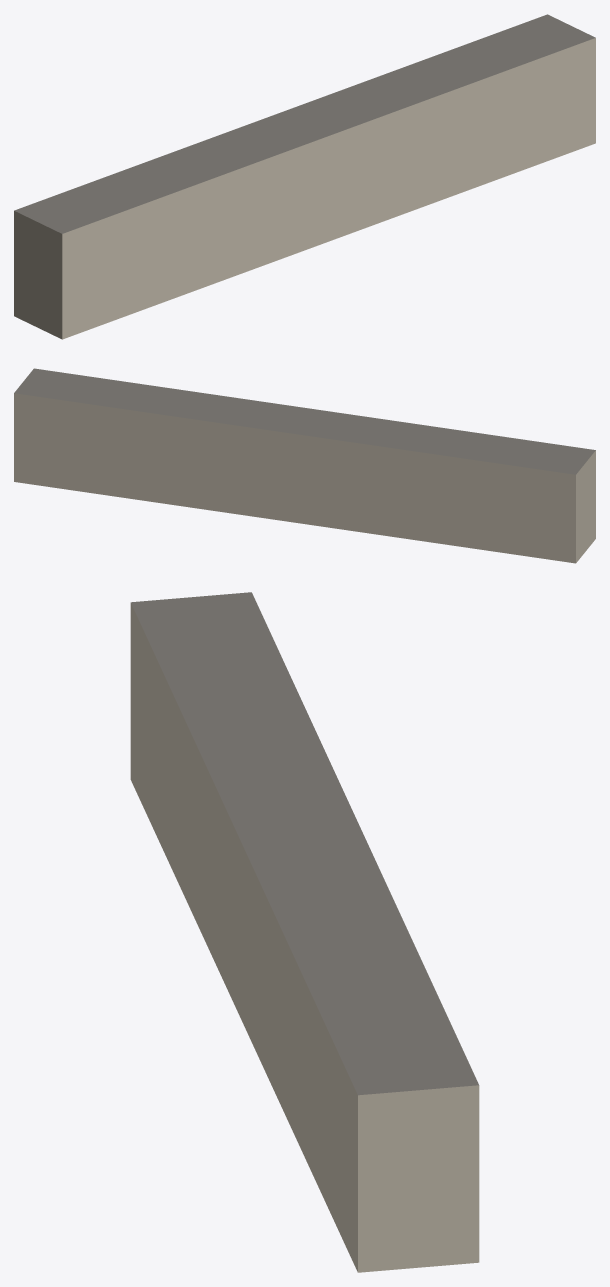
3 renders of one model, top to bottom at view 1: azimuth 30°, elevation 25°; view 2: azimuth 150°, elevation 25°; view 3: azimuth 270°, elevation 25°, orthographic. The views are drawn at different scales.
Visible parts, largest first — view 1: HP-w1202498299; view 2: HP-w1202498299; view 3: HP-w1202498299.
Part boxes in pixels (bbox=[...]): HP-w1202498299: bbox=[14, 14, 595, 339]; HP-w1202498299: bbox=[14, 368, 595, 563]; HP-w1202498299: bbox=[130, 592, 479, 1272].
Size of the model in its own units: 109 by 18 by 32.04.
